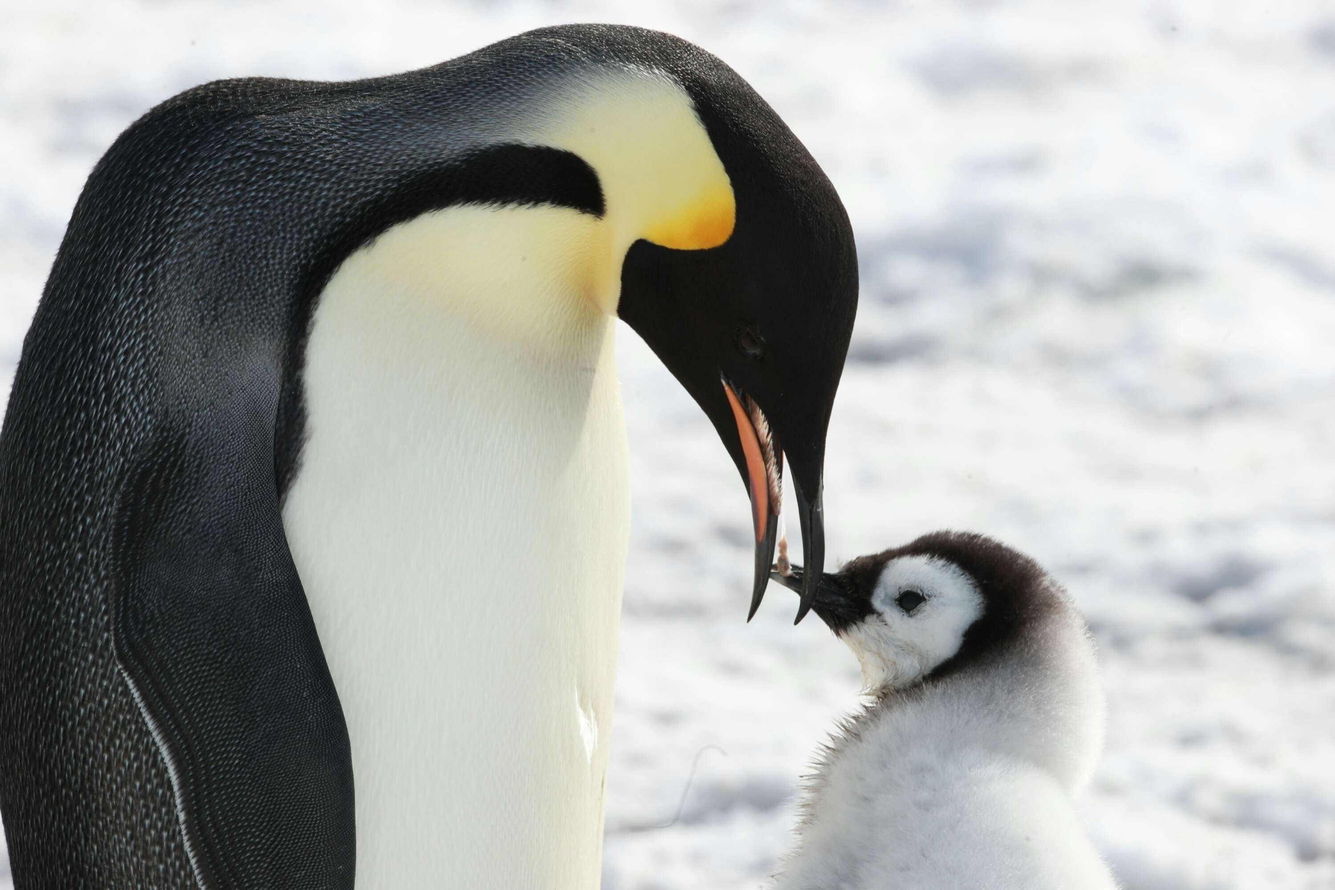Penguin: (0, 24, 858, 889), (777, 532, 1116, 889)
